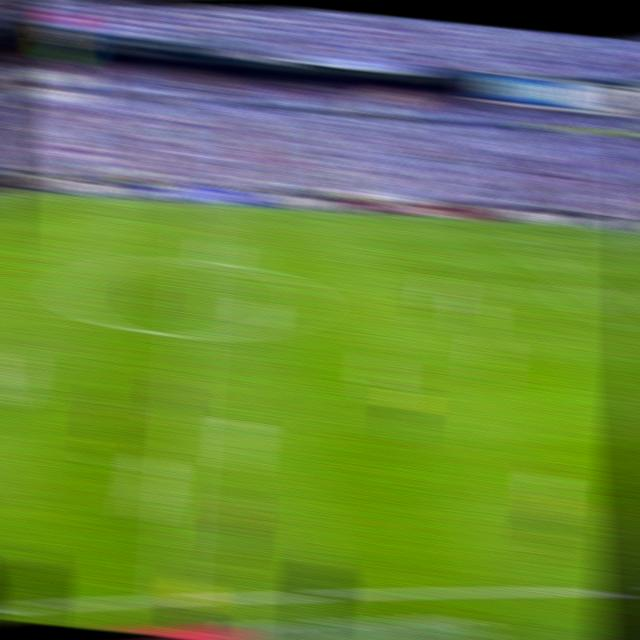halfcircle_bottom: (174, 319, 207, 349)
halfcircle_top: (181, 248, 211, 271)
midline_bottom_intersection: (156, 583, 192, 609)
midline_top_intersection: (187, 199, 213, 215)
